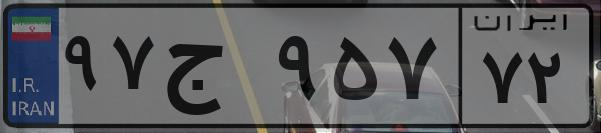2: (525, 38, 570, 115)
5: (330, 28, 385, 110)
7: (385, 28, 445, 110), (475, 38, 525, 113), (110, 28, 158, 98)
9: (270, 28, 330, 110), (57, 26, 110, 100)
ج: (158, 20, 270, 120)
